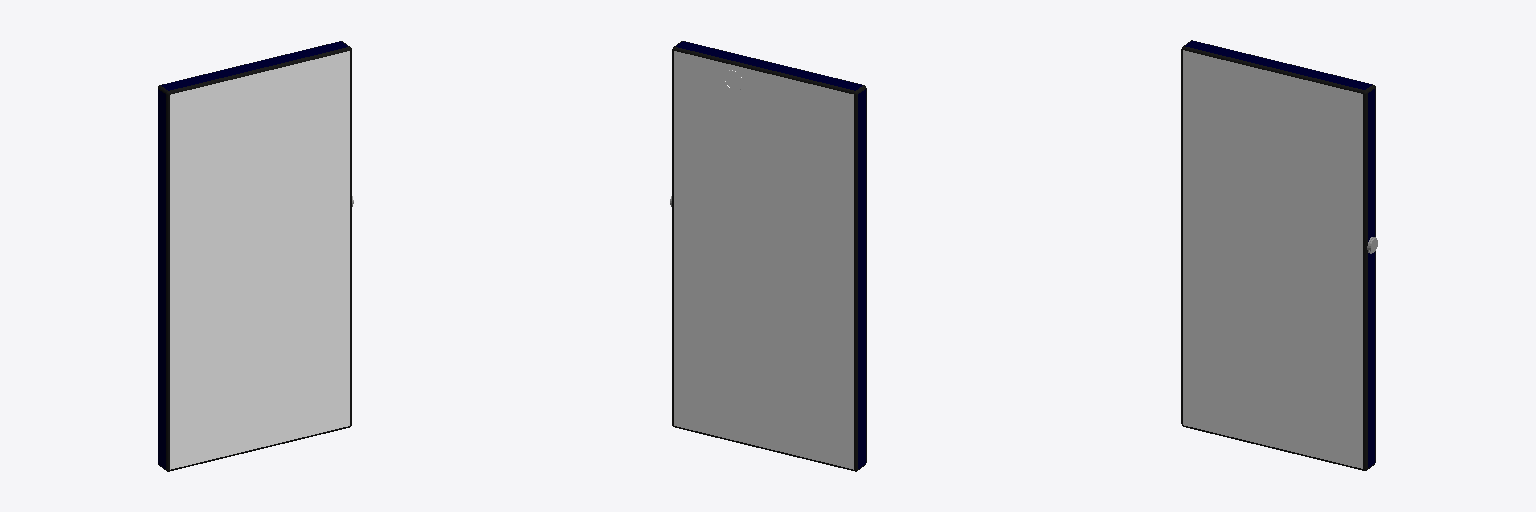
The picture shows the model from 3 angles: view 1: azimuth 30°, elevation 25°; view 2: azimuth 150°, elevation 25°; view 3: azimuth 330°, elevation 25°; orthographic projection.
Parts seen in each view (by area): view 1: body_001; view 2: body_001; view 3: body_001.
Boxes of the visible parts, box(x1,y1,x2,y2) form: body_001: box(158, 41, 351, 471); body_001: box(672, 41, 866, 471); body_001: box(1181, 40, 1375, 470).
Bounding box in the file's own units: 2.8 × 5.41 × 0.2804.